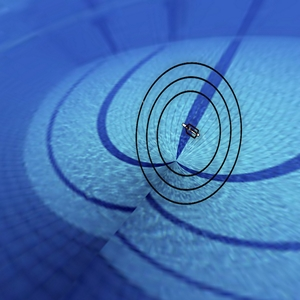circle: (131, 50, 248, 213)
submarine: (178, 116, 203, 144)
